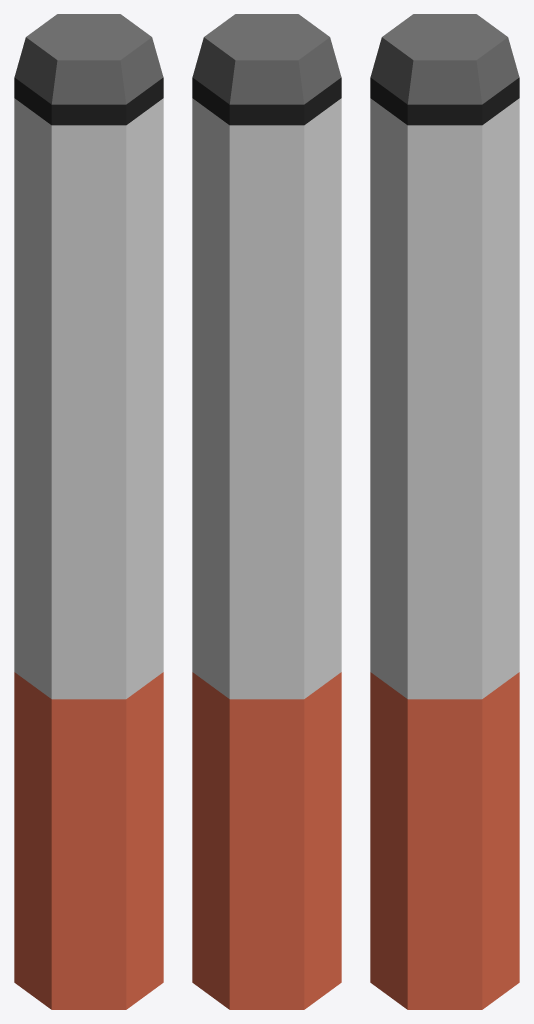
Rendered from Ciggie.fbx.
3 renders of one model, left to right at view 1: azimuth 30°, elevation 25°; view 2: azimuth 150°, elevation 25°; view 3: azimuth 270°, elevation 25°, orthographic.
Visible parts, largest first — view 1: Cylinder; view 2: Cylinder; view 3: Cylinder.
Part boxes in pixels (x1=…): Cylinder: x1=14, y1=14, x2=163, y2=1009; Cylinder: x1=192, y1=14, x2=341, y2=1009; Cylinder: x1=370, y1=14, x2=519, y2=1009.
Bounding box in the file's own units: 0.0866 × 0.7 × 0.1.
